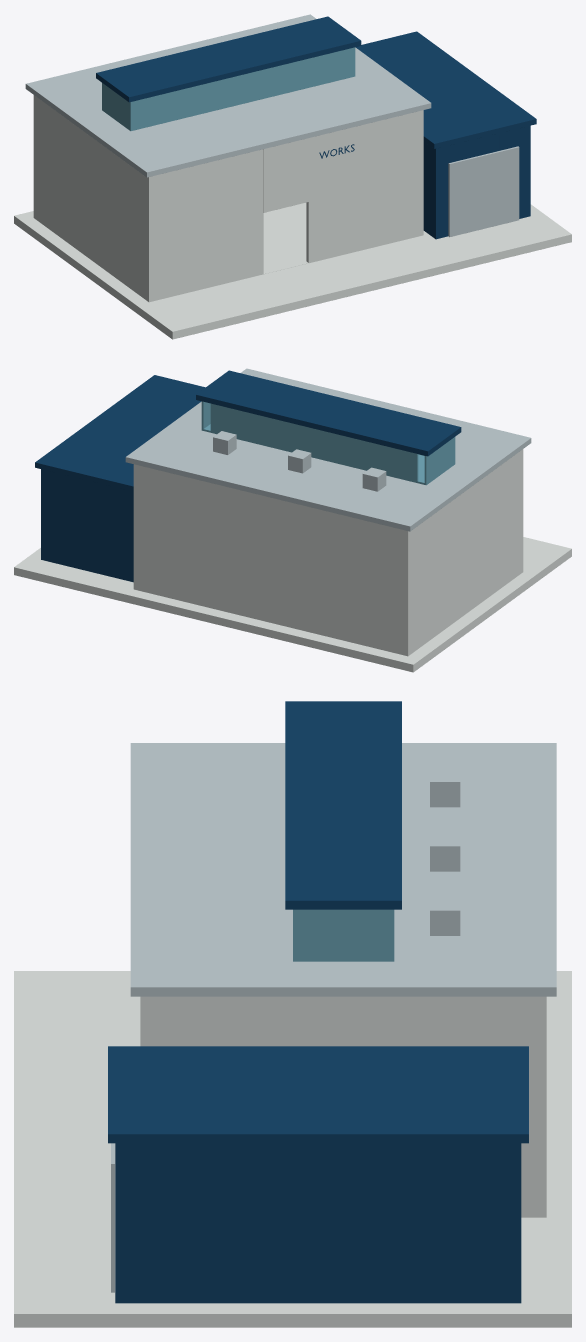
The model's file is edited.glb.
The picture shows the model from 3 angles, top to bottom: view 1: azimuth 30°, elevation 25°; view 2: azimuth 150°, elevation 25°; view 3: azimuth 270°, elevation 25°; orthographic projection. The views are drawn at different scales.
Visible parts, largest first — view 1: ROOF_Hall, FOUNDATION, PRODUCTION_Hall_FrontPier.001, PRODUCTION_Hall_FrontPier, PRODUCTION_Hall_Side, SERVICE_Roof, CLERESTORY_Roof, CLERESTORY_FrontPier, LOADING_Door, PRODUCTION_Hall_EntryHeader, PRODUCTION_Hall_Floor, SERVICE_Wing_FrontPier (+5 smaller); view 2: PRODUCTION_Hall_Back, ROOF_Hall, PRODUCTION_Hall_Side, FOUNDATION, CLERESTORY_Roof, SERVICE_Wing_Back, SERVICE_Roof, CLERESTORY_Back, CLERESTORY_Side.001, CLERESTORY_Floor, VENT, PRODUCTION_Hall_Side.001 (+2 smaller); view 3: ROOF_Hall, SERVICE_Wing_Side.001, FOUNDATION, SERVICE_Roof, CLERESTORY_Roof, PRODUCTION_Hall_Side.001, CLERESTORY_Side, SERVICE_Wing_FrontPier.001, PRODUCTION_Hall_Back, VENT, VENT.001, VENT.002 (+2 smaller).
Boxes of the visible parts, x1=… form: ROOF_Hall: x1=25, y1=14, x2=431, y2=177; FOUNDATION: x1=14, y1=204, x2=571, y2=339; PRODUCTION_Hall_FrontPier.001: x1=306, y1=110, x2=423, y2=262; PRODUCTION_Hall_FrontPier: x1=146, y1=149, x2=263, y2=301; PRODUCTION_Hall_Side: x1=33, y1=95, x2=152, y2=301; SERVICE_Roof: x1=356, y1=31, x2=536, y2=148; CLERESTORY_Roof: x1=96, y1=16, x2=361, y2=102; CLERESTORY_FrontPier: x1=129, y1=47, x2=354, y2=130; LOADING_Door: x1=448, y1=146, x2=519, y2=237; PRODUCTION_Hall_EntryHeader: x1=263, y1=138, x2=308, y2=212; PRODUCTION_Hall_Floor: x1=150, y1=202, x2=411, y2=301; SERVICE_Wing_FrontPier: x1=433, y1=143, x2=466, y2=238; PRODUCTION_Hall_Back: x1=133, y1=464, x2=410, y2=656; ROOF_Hall: x1=125, y1=368, x2=531, y2=531; PRODUCTION_Hall_Side: x1=404, y1=449, x2=523, y2=655; FOUNDATION: x1=14, y1=537, x2=571, y2=672; CLERESTORY_Roof: x1=196, y1=370, x2=461, y2=456; SERVICE_Wing_Back: x1=41, y1=469, x2=133, y2=581; SERVICE_Roof: x1=35, y1=375, x2=205, y2=491; CLERESTORY_Back: x1=210, y1=403, x2=418, y2=482; CLERESTORY_Side.001: x1=424, y1=437, x2=455, y2=484; CLERESTORY_Floor: x1=201, y1=424, x2=454, y2=485; VENT: x1=362, y1=467, x2=386, y2=491; PRODUCTION_Hall_Side.001: x1=133, y1=464, x2=137, y2=589; ROOF_Hall: x1=130, y1=743, x2=556, y2=996; SERVICE_Wing_Side.001: x1=115, y1=1143, x2=521, y2=1303; FOUNDATION: x1=14, y1=971, x2=571, y2=1327; SERVICE_Roof: x1=108, y1=1046, x2=528, y2=1143; CLERESTORY_Roof: x1=285, y1=701, x2=401, y2=909; PRODUCTION_Hall_Side.001: x1=140, y1=996, x2=546, y2=1217; CLERESTORY_Side: x1=293, y1=909, x2=394, y2=961; SERVICE_Wing_FrontPier.001: x1=115, y1=1143, x2=123, y2=1303; PRODUCTION_Hall_Back: x1=538, y1=996, x2=546, y2=1217; VENT: x1=430, y1=769, x2=460, y2=807; VENT.001: x1=430, y1=833, x2=460, y2=871; VENT.002: x1=430, y1=898, x2=460, y2=935.
Bounding box in the file's own units: 16 × 6.8 × 11.
